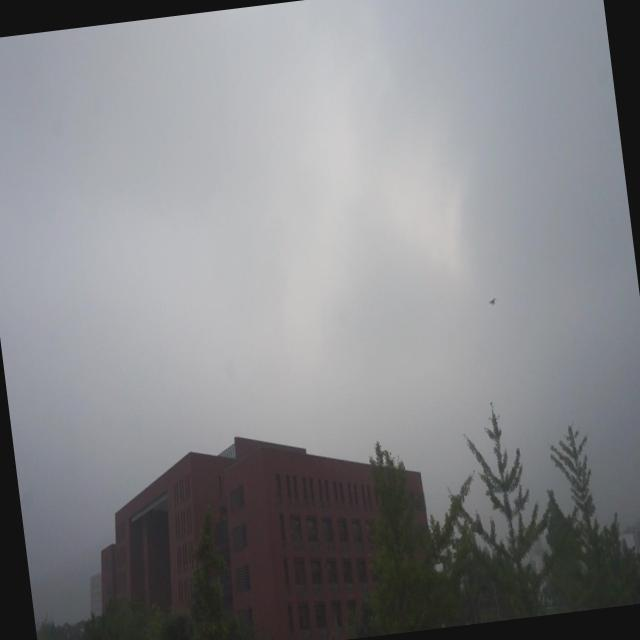drone: (485, 294, 500, 310)
